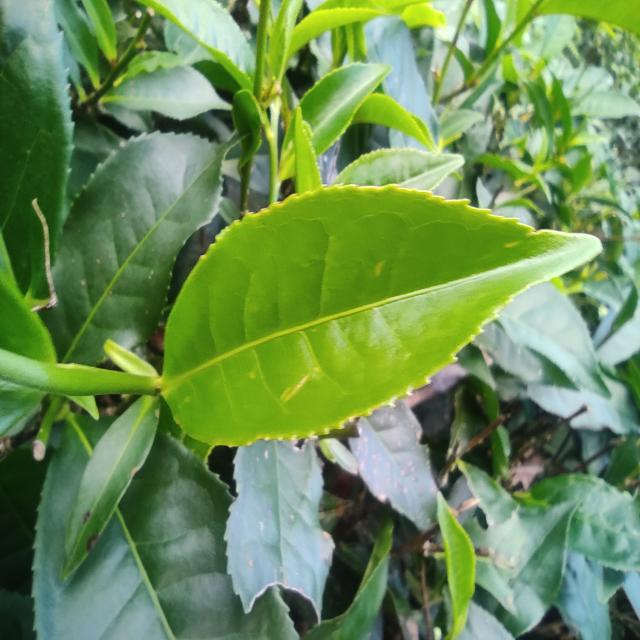Category C(4-7 days): (118, 148, 613, 472)
